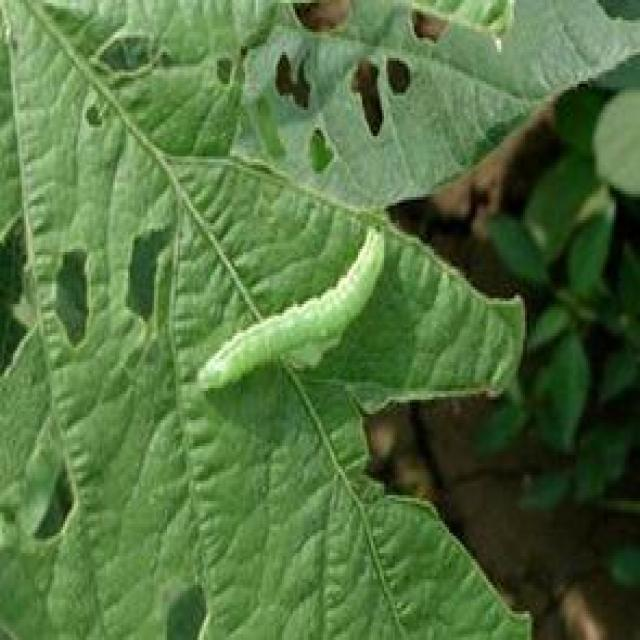BeetArmyWorm-Larva-: (191, 225, 397, 402)
